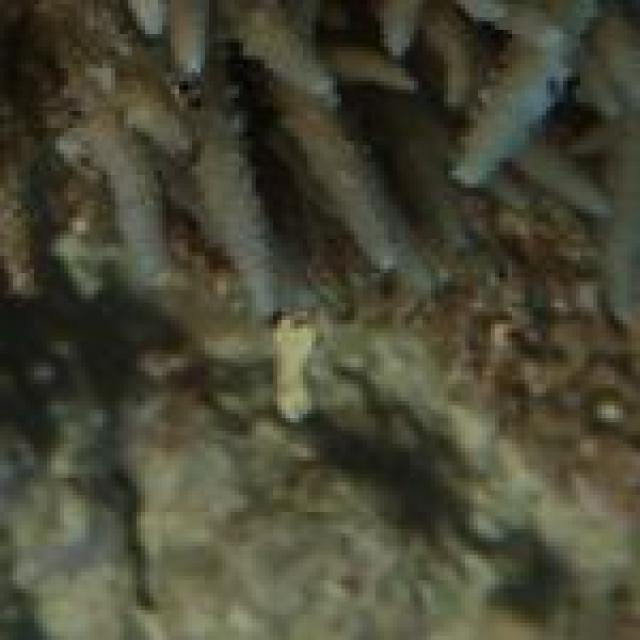Healthy Coral: (0, 0, 640, 252)
